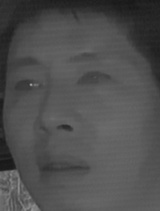eye: (77, 66, 111, 90), (12, 74, 45, 96)
mouth: (29, 147, 93, 184)
